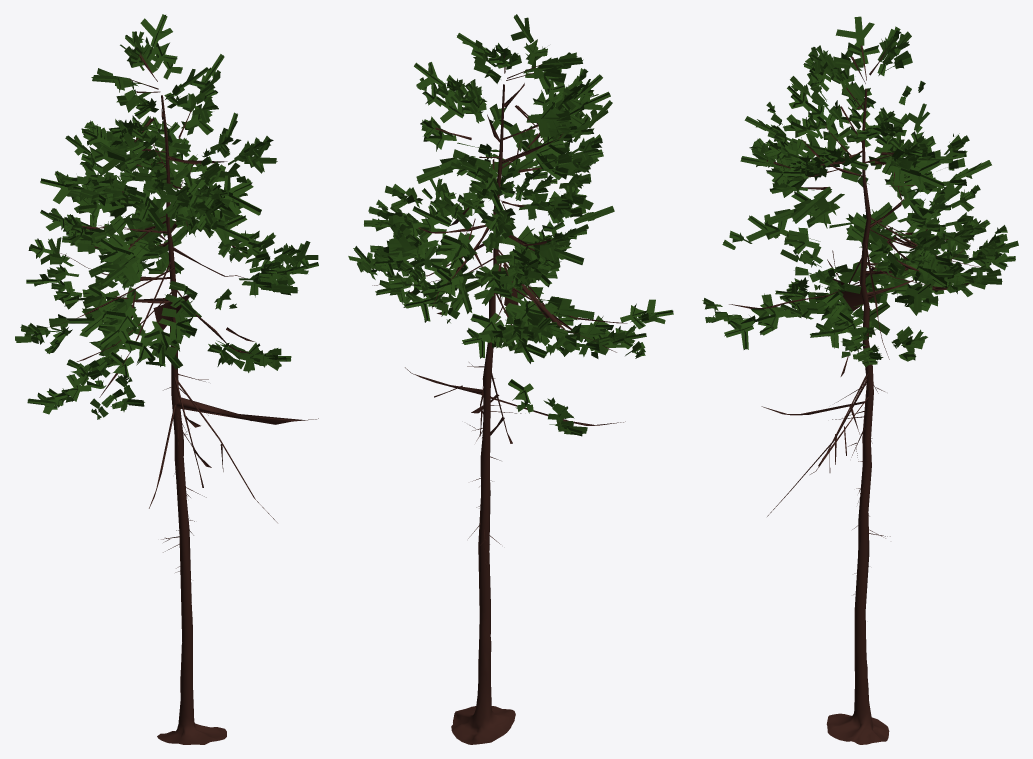
The model's file is fir_c_lod1.obj.
The picture shows the model from 3 angles, left to right: view 1: azimuth 30°, elevation 25°; view 2: azimuth 150°, elevation 25°; view 3: azimuth 270°, elevation 25°; orthographic projection. The views are drawn at different scales.
Parts seen in each view (by area): view 1: fir_c_lod1; view 2: fir_c_lod1; view 3: fir_c_lod1.
Part boxes in pixels (box(x1,y1,x2,y2)): fir_c_lod1: box(15, 14, 318, 744); fir_c_lod1: box(348, 14, 673, 744); fir_c_lod1: box(702, 16, 1018, 744).
Bounding box in the file's own units: 250 × 573 × 236.
